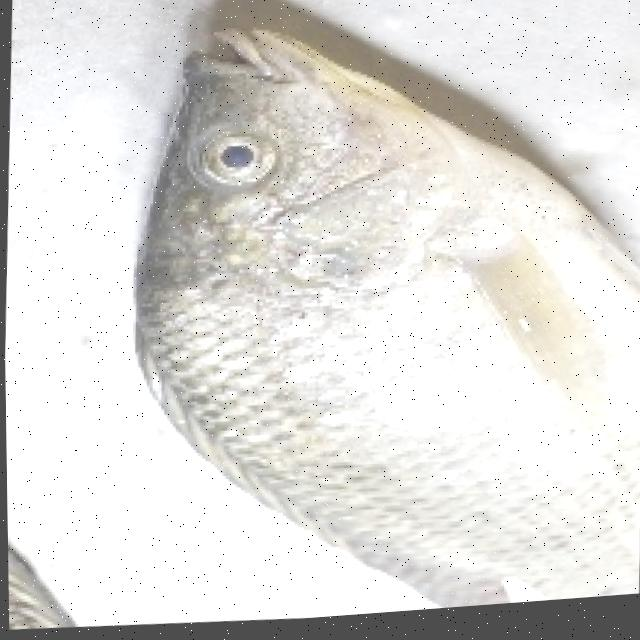Fresh: (101, 0, 640, 593)
